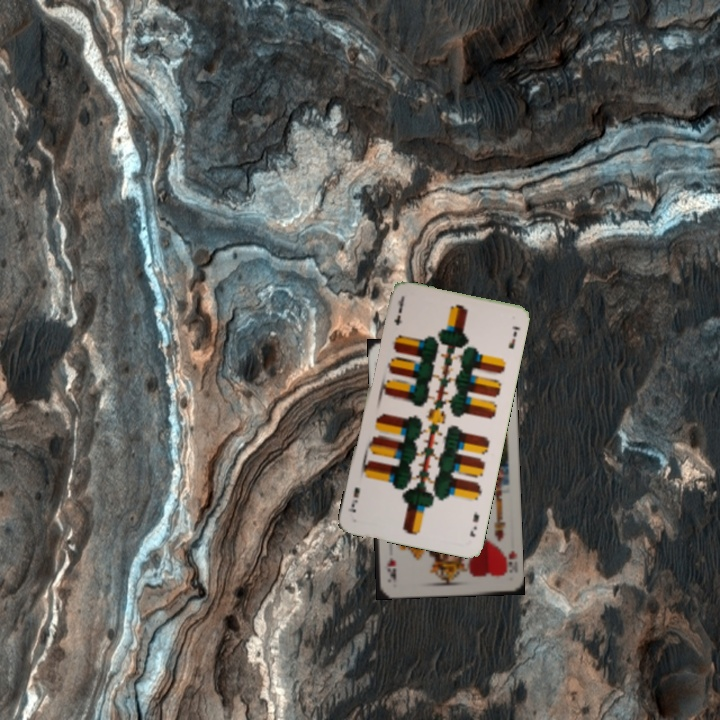E7: (390, 294, 406, 328), (466, 507, 482, 539)
HK: (499, 546, 519, 578)
